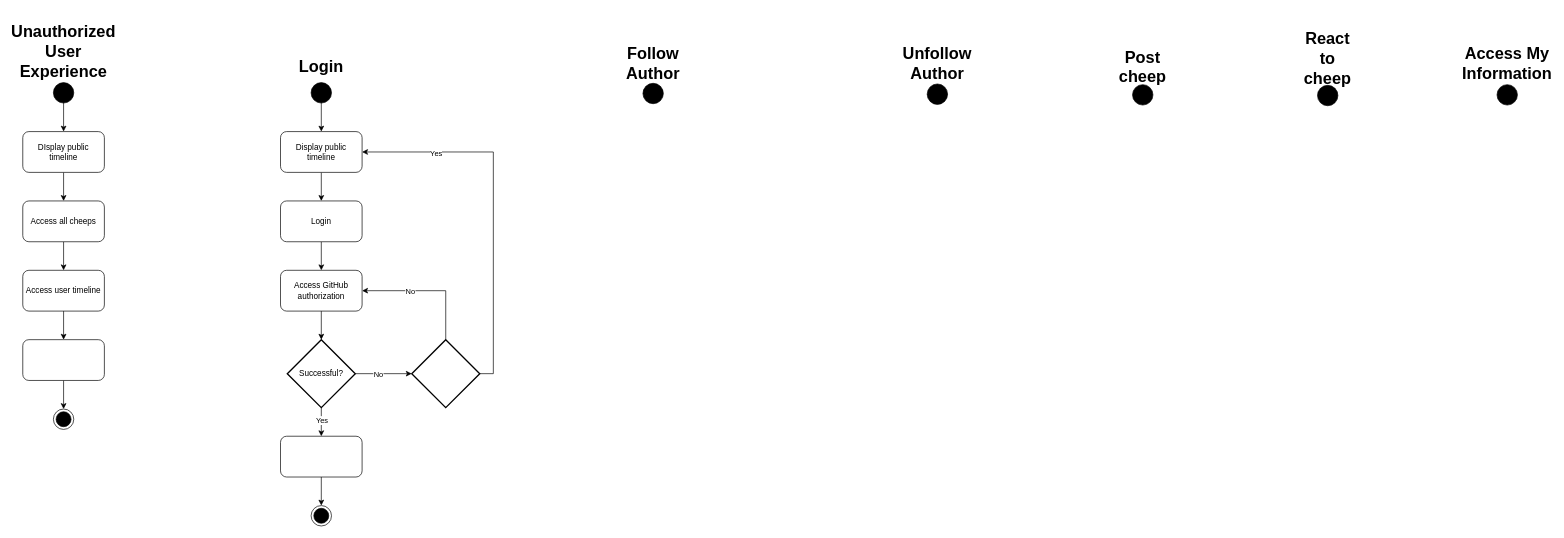
Image size: 1564x538. Some labels were removed from this diagram. The box of each missing label's shape, as (x1, y1, x2, y2) in pixels:
Abort login?: (411, 339, 480, 408)
Display public timeline, but user is authorized: (280, 436, 362, 477)
Display user's cheeps: (22, 339, 104, 380)
